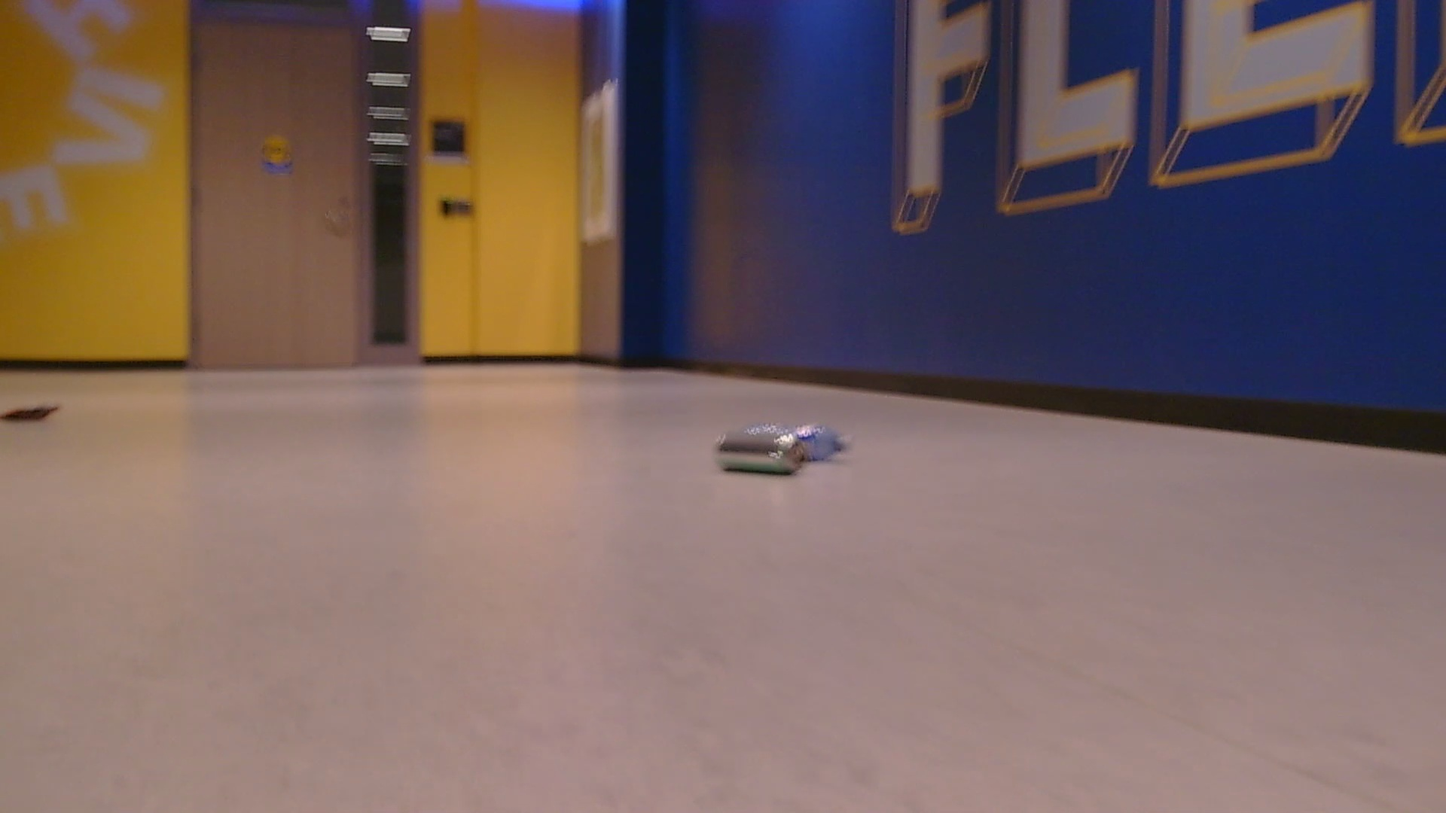can: (711, 420, 856, 478), (0, 390, 67, 436)
